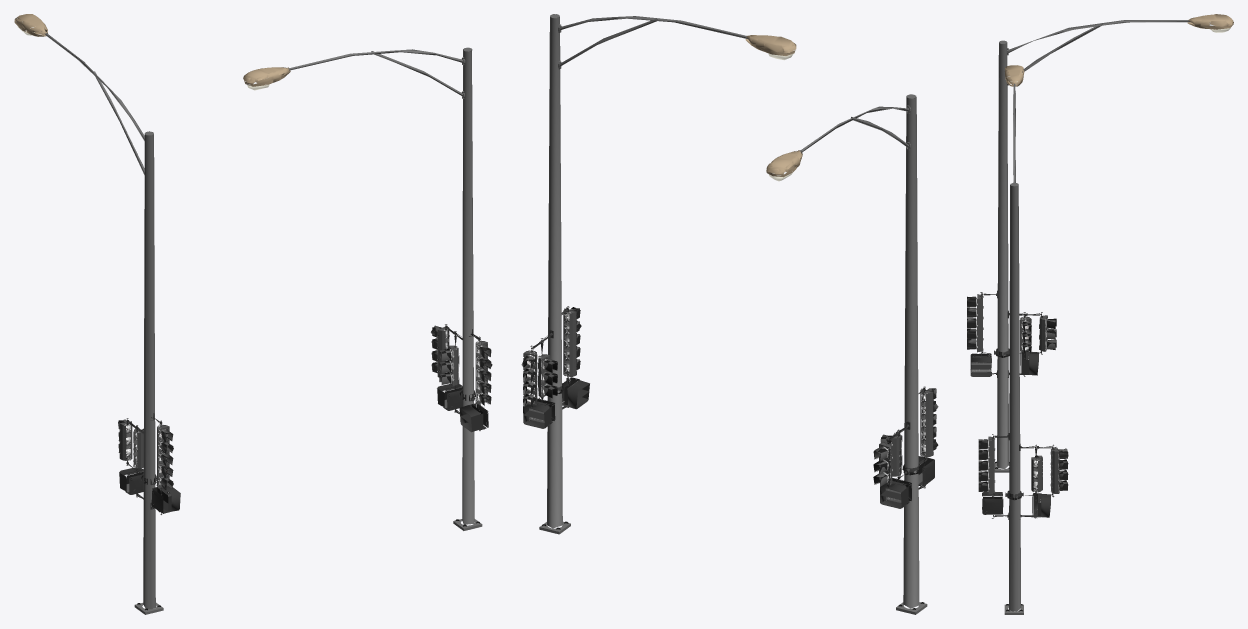
File: signal_corner.glb
3 renders of one model, left to right at view 1: azimuth 30°, elevation 25°; view 2: azimuth 150°, elevation 25°; view 3: azimuth 270°, elevation 25°, orthographic. The views are drawn at different scales.
Parts seen in each view (by area): view 1: signal_corner; view 2: signal_corner; view 3: signal_corner.
Part boxes in pixels (left/top/right/bottom): signal_corner: left=14, top=14, right=492, bottom=614; signal_corner: left=521, top=14, right=938, bottom=614; signal_corner: left=967, top=14, right=1233, bottom=614.
Size of the model in its own units: 8.18 by 11.38 by 6.09.
